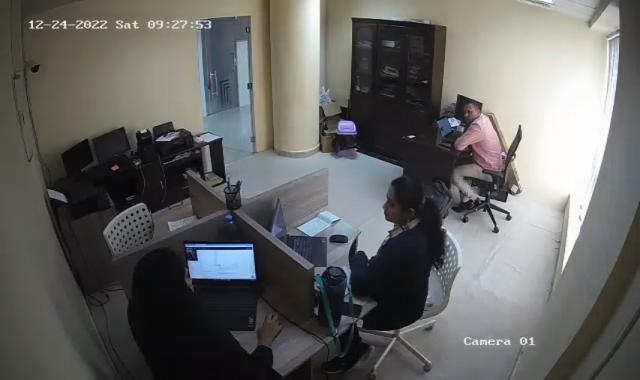no_hairnet: (134, 250, 192, 311), (381, 170, 428, 224), (461, 100, 482, 123)
